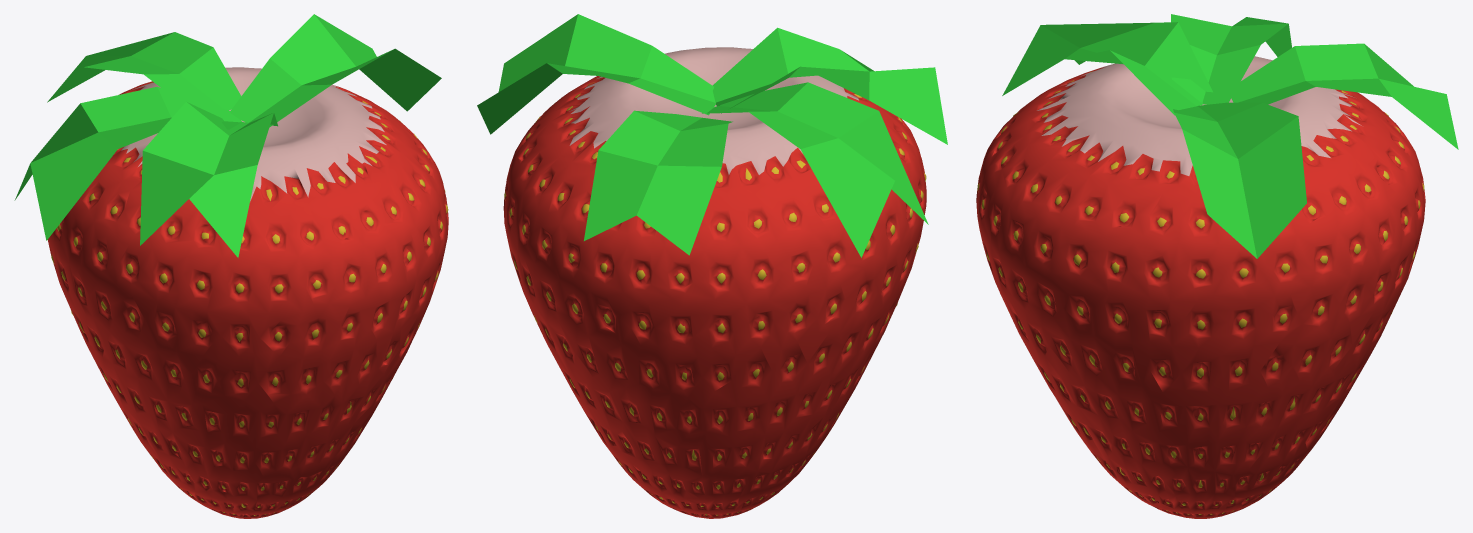
Rendered from Erdbeere_reduced.fbx.
The picture shows the model from 3 angles, left to right: view 1: azimuth 30°, elevation 25°; view 2: azimuth 150°, elevation 25°; view 3: azimuth 270°, elevation 25°; orthographic projection. The views are drawn at different scales.
Visible parts, largest first — view 1: Erdbeere, Blatt4, Blatt, Blatt3, Blatt2; view 2: Erdbeere, Blatt2, Blatt, Blatt3, Blatt4; view 3: Erdbeere, Blatt3, Blatt4, Blatt2, Blatt.
Boxes of the visible parts, <box> form: Erdbeere: <box>47,67,448,518</box>; Blatt4: <box>140,101,277,257</box>; Blatt: <box>14,86,241,240</box>; Blatt3: <box>230,14,441,127</box>; Blatt2: <box>47,32,241,110</box>; Erdbeere: <box>503,47,926,518</box>; Blatt2: <box>584,110,732,255</box>; Blatt: <box>702,82,928,257</box>; Blatt3: <box>477,14,715,134</box>; Blatt4: <box>712,27,947,144</box>; Erdbeere: <box>976,56,1425,518</box>; Blatt3: <box>1173,102,1306,258</box>; Blatt4: <box>1002,22,1212,115</box>; Blatt2: <box>1231,43,1458,149</box>; Blatt: <box>1171,14,1291,104</box>.
Bounding box in the file's own units: 0.9476 × 0.9864 × 0.945.
